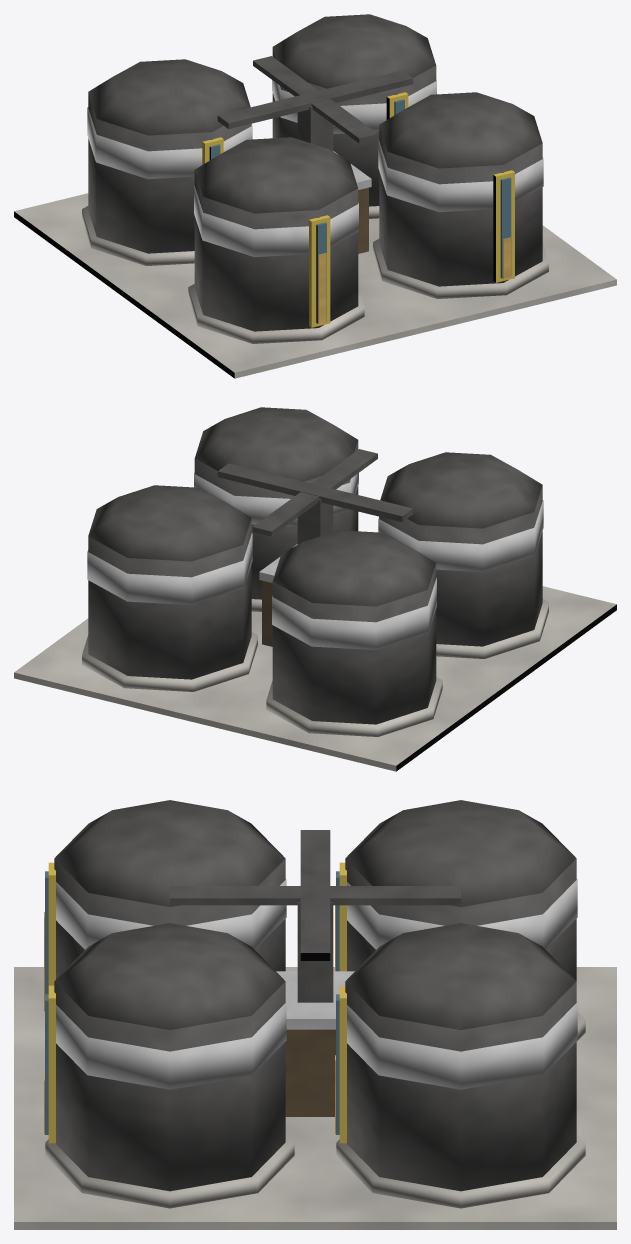
File: extractor.glb
3 renders of one model, top to bottom at view 1: azimuth 30°, elevation 25°; view 2: azimuth 150°, elevation 25°; view 3: azimuth 270°, elevation 25°, orthographic. The views are drawn at different scales.
Parts seen in each view (by area): view 1: building; view 2: building; view 3: building.
Part boxes in pixels (left/top/right/bottom): building: left=14, top=14, right=616, bottom=378; building: left=14, top=407, right=616, bottom=771; building: left=14, top=800, right=616, bottom=1229.
Size of the model in its own units: 20.34 by 8.05 by 20.34.
2 materials, 2 textured.
